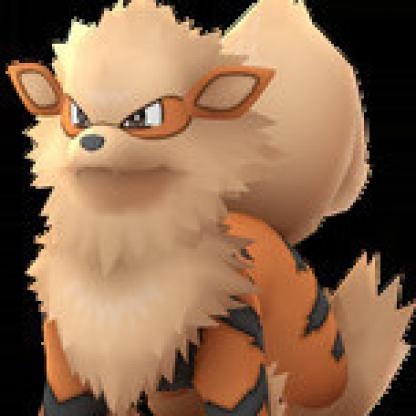Arcanine: (6, 1, 374, 415)
